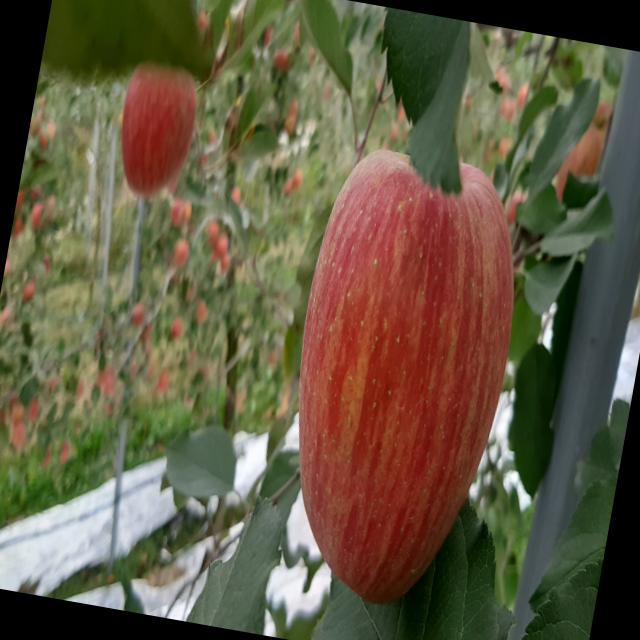fresh: (254, 123, 549, 628)
